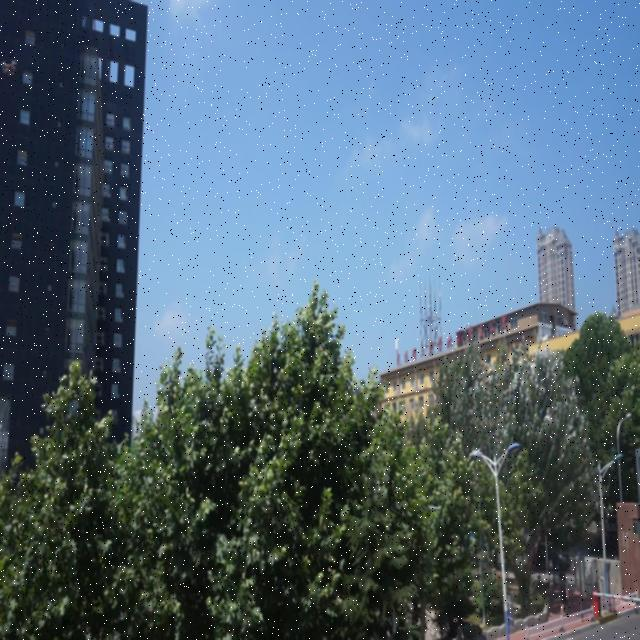UAV: (1, 59, 18, 76)
